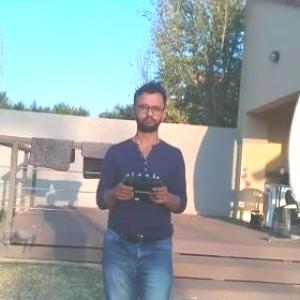follow: (92, 77, 194, 299)
